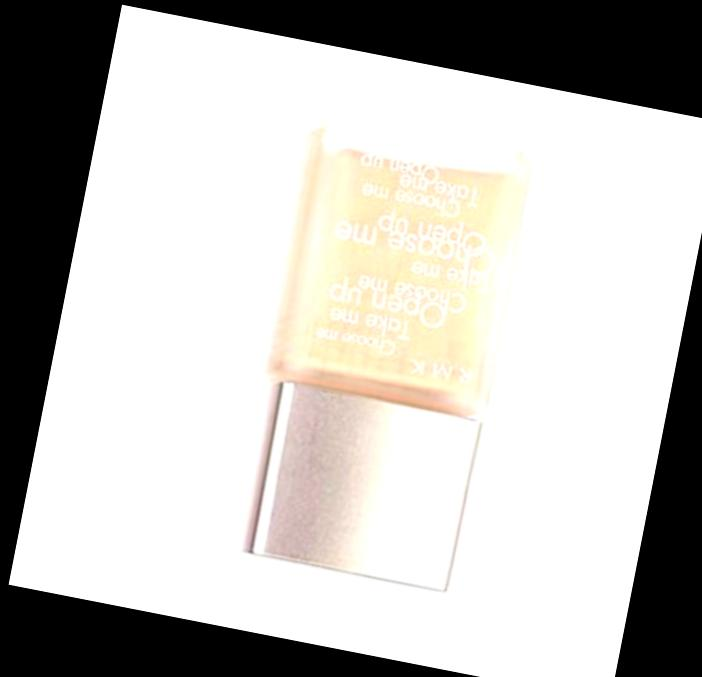cosmetic: (219, 107, 541, 597)
